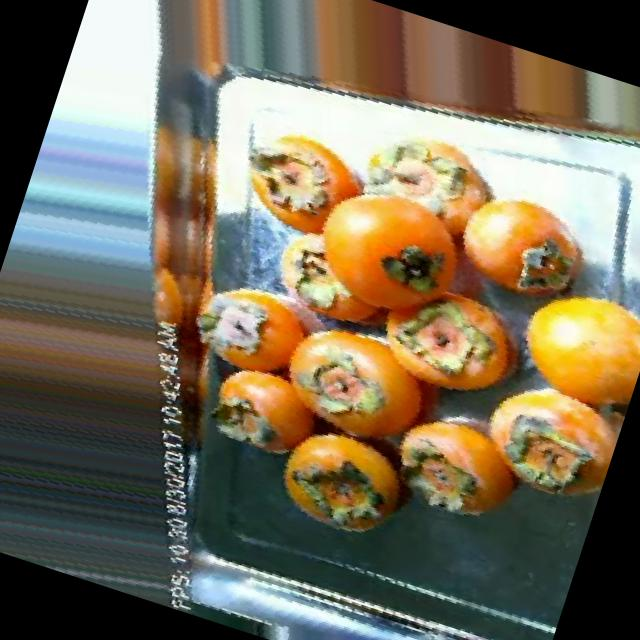Fruit: (216, 105, 388, 258), (486, 264, 640, 428)
